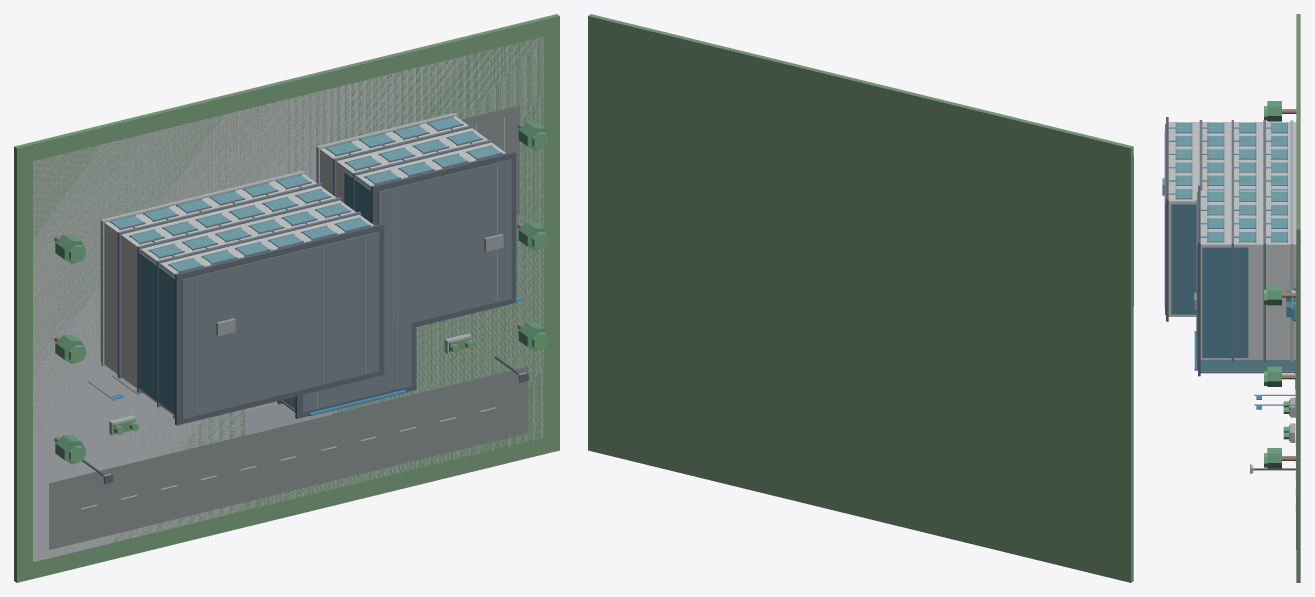
Rendered from commercial_building_level_4.glb.
The picture shows the model from 3 angles, left to right: view 1: azimuth 30°, elevation 25°; view 2: azimuth 150°, elevation 25°; view 3: azimuth 270°, elevation 25°; orthographic projection. The views are drawn at different scales.
Parts seen in each view (by area): view 1: part_00000, part_00001, part_00002, part_00060, part_00265, part_00054, part_00258, part_00059, part_00260, part_00379, part_00264, part_00398 (+7 smaller); view 2: part_00000; view 3: part_00260, part_00054, part_00366, part_00259, part_00000, part_00367, part_00059, part_00261, part_00264, part_00263, part_00262, part_00021 (+8 smaller).
Boxes of the visible parts, <box> form: part_00000: <box>14,14,559,582</box>; part_00001: <box>33,37,543,562</box>; part_00002: <box>49,366,527,549</box>; part_00060: <box>182,231,379,418</box>; part_00265: <box>378,159,511,329</box>; part_00054: <box>100,171,373,415</box>; part_00258: <box>139,252,174,413</box>; part_00059: <box>175,223,384,425</box>; part_00260: <box>316,113,505,202</box>; part_00379: <box>302,323,411,412</box>; part_00264: <box>371,151,516,327</box>; part_00398: <box>461,105,519,214</box>; part_00000: <box>588,14,1133,582</box>; part_00260: <box>1200,190,1296,359</box>; part_00054: <box>1168,122,1296,316</box>; part_00366: <box>1202,247,1248,357</box>; part_00259: <box>1171,204,1196,314</box>; part_00000: <box>1296,14,1300,582</box>; part_00367: <box>1200,360,1296,371</box>; part_00059: <box>1166,117,1168,321</box>; part_00261: <box>1290,189,1293,361</box>; part_00264: <box>1198,185,1200,364</box>; part_00263: <box>1231,188,1233,361</box>; part_00262: <box>1263,188,1265,361</box>; part_00021: <box>1267,101,1281,121</box>.
Size of the model in its own units: 68 by 52 by 18.45.
